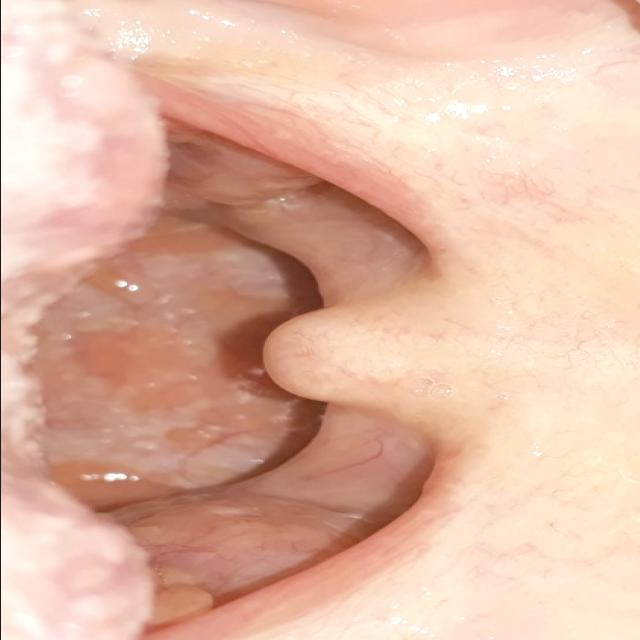Non Pharyngitis: (106, 100, 394, 240), (252, 282, 528, 424), (124, 483, 398, 599)
